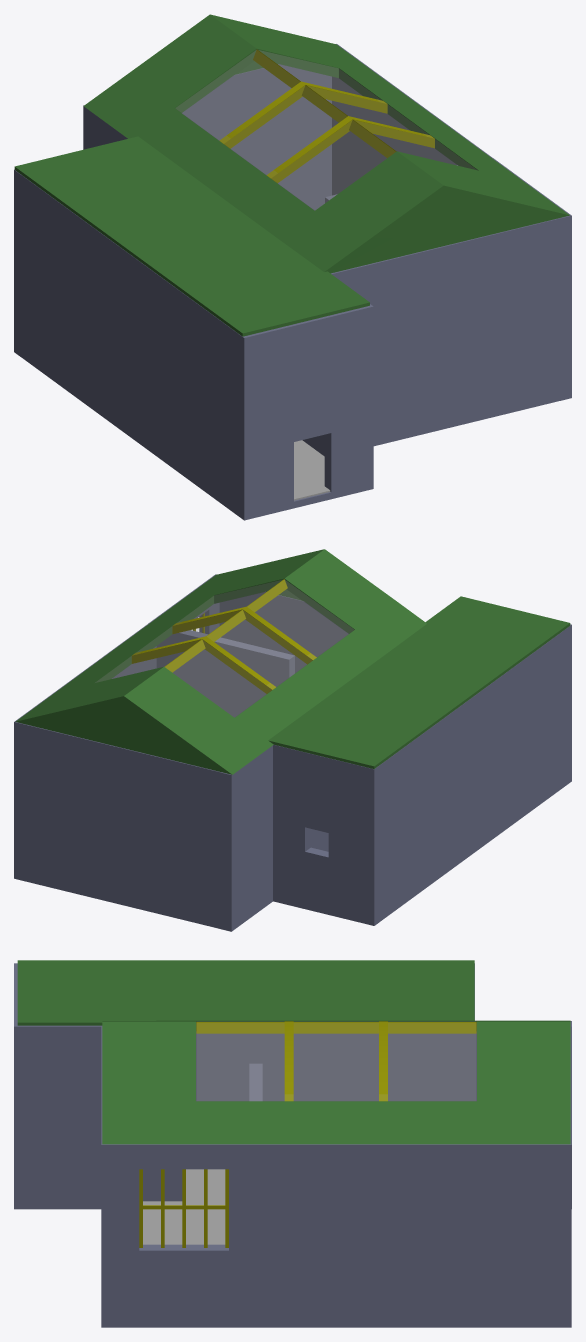
File: RoomLayout_Draft2.fbx
3 renders of one model, top to bottom at view 1: azimuth 30°, elevation 25°; view 2: azimuth 150°, elevation 25°; view 3: azimuth 270°, elevation 25°, orthographic. The views are drawn at different scales.
Visible parts, largest first — view 1: HoledRoof, LongestWall, OutWall1, FlatRoof, GlassRoof, Exit_DoorWay, OutWall2, OutWall4, ShortWall, BigWindowWall, Horizontal1, Horizontal2 (+4 smaller); view 2: HoledRoof, OutWall2, LongestWall, FlatRoof, WindowWall, GlassRoof, OutWall3, ThinWall5, OutWall1, OutWall4, Horizontal1, Horizontal2 (+1 smaller); view 3: OutWall4, HoledRoof, FlatRoof, BigWindowWall, GlassRoof, ShortWall, OutWall3, LongestWall, Strikethrough, Floor1, Floor2, Horizontal2 (+2 smaller).
Boxes of the visible parts, x1,y1,x2,y2 form: HoledRoof: (84, 14, 569, 273); LongestWall: (20, 174, 255, 520); OutWall1: (331, 218, 560, 446); FlatRoof: (14, 136, 369, 336); GlassRoof: (175, 50, 476, 210); Exit_DoorWay: (254, 308, 361, 517); OutWall2: (182, 64, 331, 210); OutWall4: (332, 44, 493, 195); ShortWall: (302, 304, 373, 491); BigWindowWall: (493, 158, 571, 400); Horizontal1: (219, 81, 387, 148); Horizontal2: (266, 116, 434, 183); HoledRoof: (15, 549, 426, 774); OutWall2: (24, 724, 221, 929); LongestWall: (380, 624, 571, 921); FlatRoof: (268, 596, 570, 768); WindowWall: (273, 745, 379, 925); GlassRoof: (95, 580, 353, 717); OutWall3: (221, 745, 328, 931); ThinWall5: (156, 630, 294, 717); OutWall1: (219, 591, 348, 673); OutWall4: (14, 623, 156, 880); Horizontal1: (131, 636, 275, 693); Horizontal2: (172, 606, 316, 664); OutWall4: (257, 1139, 571, 1327); HoledRoof: (102, 1020, 570, 1144); FlatRoof: (17, 960, 474, 1025); BigWindowWall: (101, 1139, 257, 1327); GlassRoof: (196, 1021, 476, 1100); ShortWall: (14, 1021, 182, 1209); OutWall3: (302, 1021, 571, 1208); LongestWall: (14, 963, 301, 1101); Strikethrough: (196, 1022, 476, 1033); Floor1: (143, 1200, 225, 1244); Floor2: (186, 1169, 225, 1200); Horizontal2: (284, 1021, 293, 1101).
Bounding box in the file's own units: 23.97 × 15 × 31.14.
